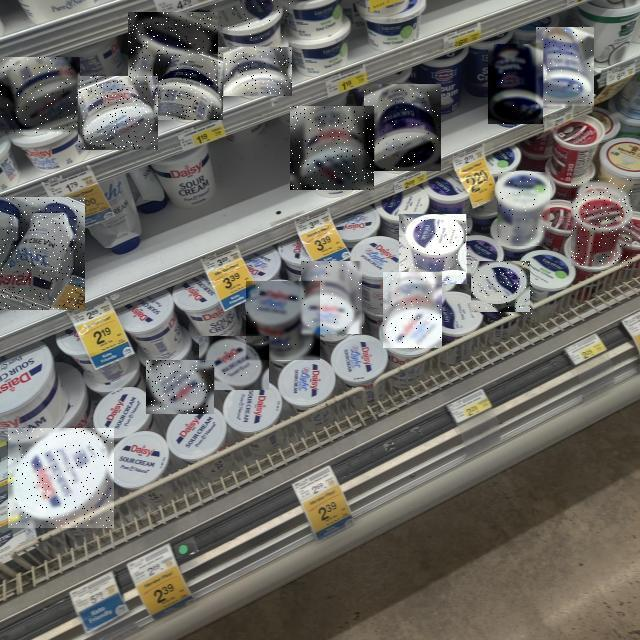Yoghurt: (8, 428, 114, 528), (0, 197, 85, 310), (290, 106, 374, 190), (364, 84, 441, 171), (128, 12, 218, 85), (0, 58, 80, 134), (79, 76, 159, 150), (246, 281, 320, 360), (210, 0, 294, 64), (571, 178, 632, 266), (400, 214, 470, 284), (536, 28, 594, 108), (153, 54, 223, 120), (302, 261, 364, 334), (383, 272, 442, 348), (488, 44, 543, 124), (498, 173, 550, 247), (199, 336, 269, 390), (146, 361, 214, 415), (218, 47, 292, 96), (472, 262, 534, 316)
